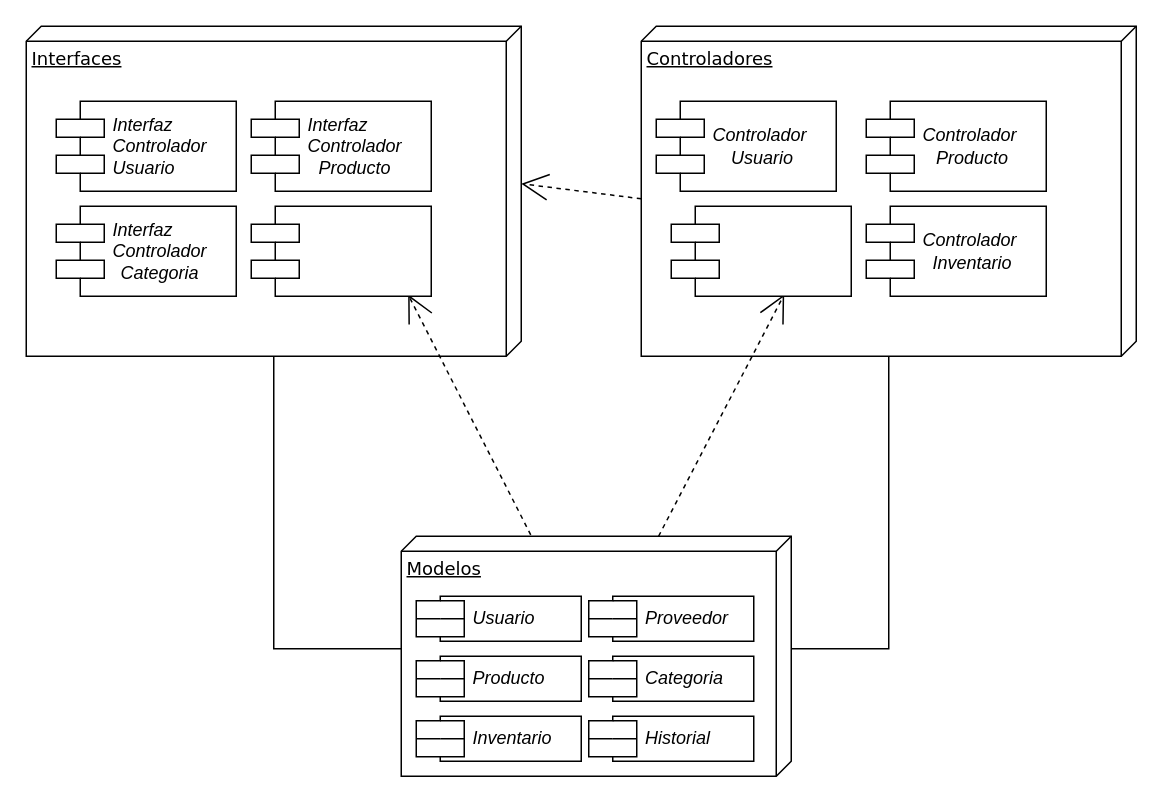
The diagram is 1163 pixels wide and 803 high, and some of its shapes have lost their labels. The shapes that lost their labels are listed below. From the top down, each one's centre as x and y in pixels, then its label:
At (340,250): "Interfaz Controlador Inventario".
At (760,250): "Controlador Categoria".
